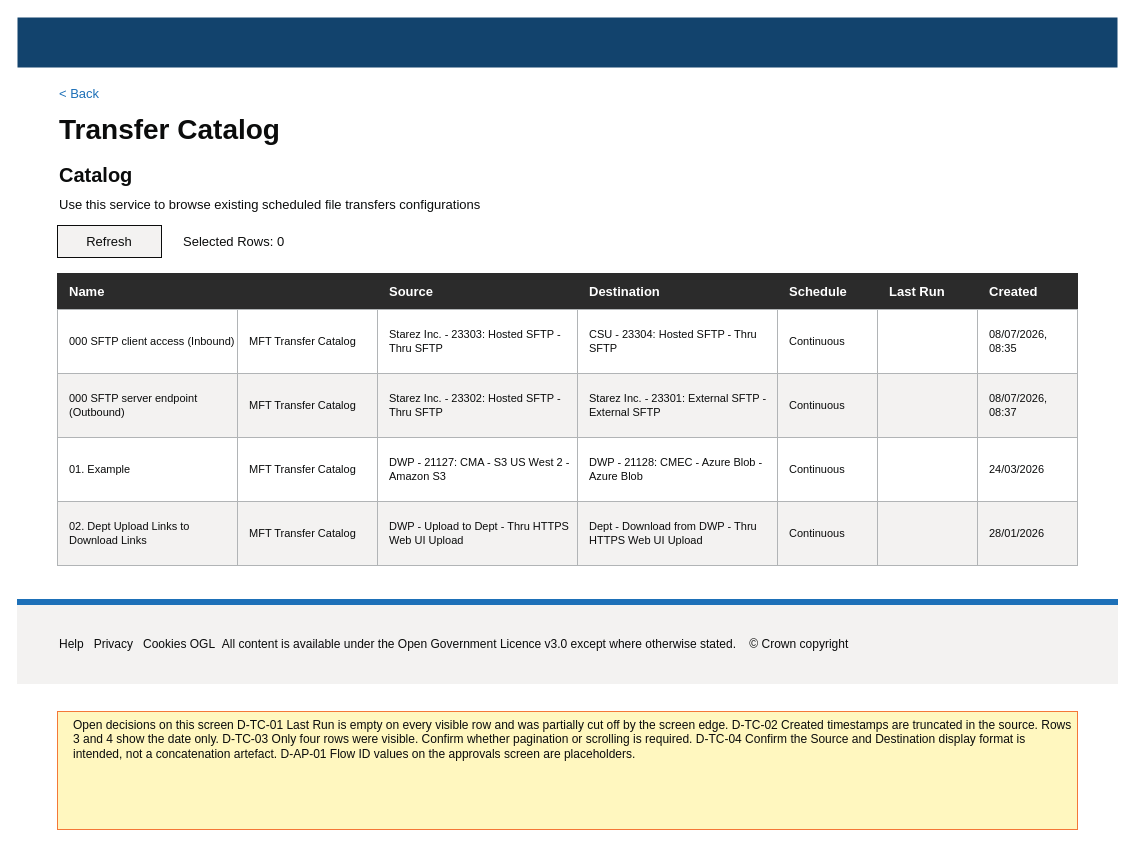
Some shapes in this 1135 by 847 pixel diagram are drawn without their labels. Here are the shapes that lost their labels. From the top down, the centre of each, then its label:
At pixel 567 42: "GOV.UK Managed File Transfer".
At pixel 307 291: "Flow Name".
